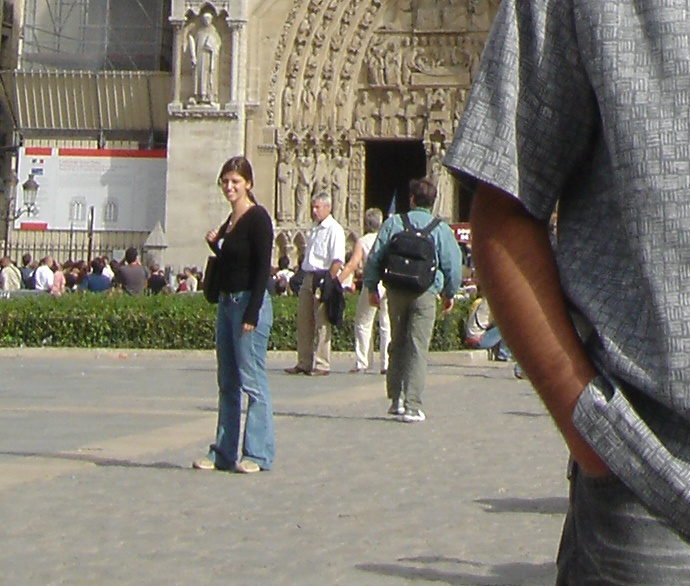person: (192, 152, 275, 468), (366, 175, 459, 423), (283, 186, 350, 374)
